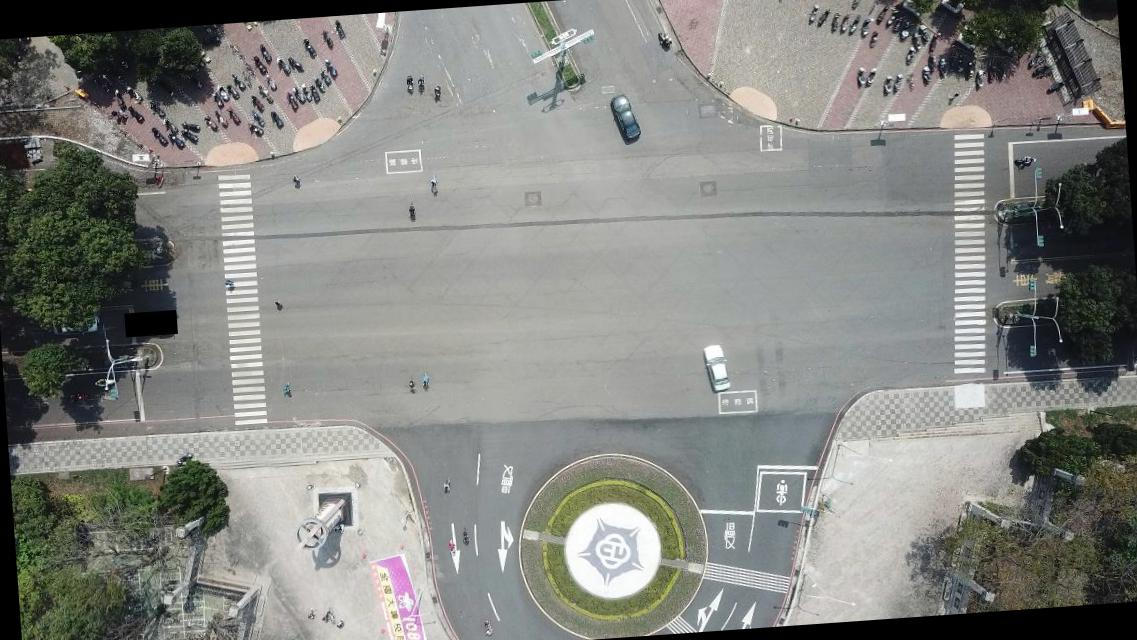vehicle: (606, 94, 642, 144), (701, 343, 730, 394), (47, 309, 100, 336)
